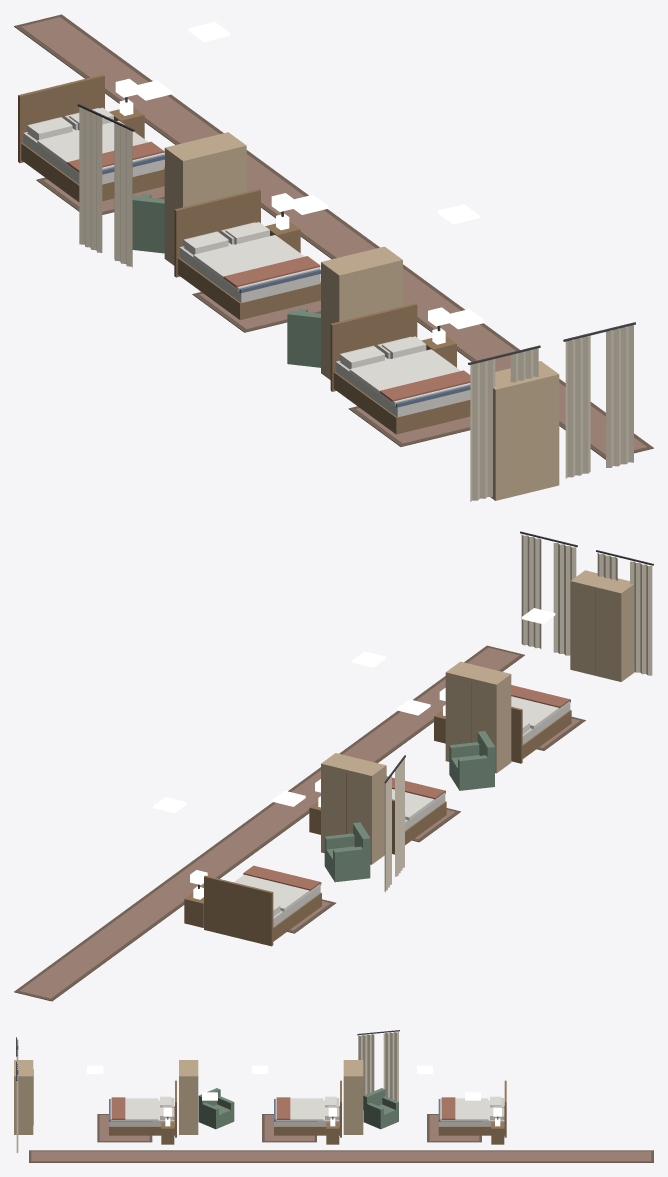
Rendered from fine-s3.glb.
3 renders of one model, top to bottom at view 1: azimuth 30°, elevation 25°; view 2: azimuth 150°, elevation 25°; view 3: azimuth 270°, elevation 25°, orthographic. The views are drawn at different scales.
Parts seen in each view (by area): view 1: soft-s3, dresser.008, bed-frame.007, bed-frame.008, bed-frame.006, dresser.006, dresser.007, lounge-chair.005, lounge-chair.004, nightstand.006, nightstand.007, nightstand.008; view 2: soft-s3, dresser.008, dresser.007, dresser.006, bed-frame.006, lounge-chair.004, lounge-chair.005, bed-frame.008, bed-frame.007, nightstand.006; view 3: soft-s3, dresser.006, dresser.007, dresser.008, lounge-chair.004, bed-frame.006, bed-frame.007, bed-frame.008, lounge-chair.005, nightstand.006, nightstand.007, nightstand.008.
Boxes of the visible parts, bbox=[...] form: soft-s3: bbox=[14, 14, 653, 501]; dresser.008: bbox=[490, 361, 559, 500]; bed-frame.007: bbox=[174, 189, 320, 319]; bed-frame.008: bbox=[330, 303, 470, 434]; bed-frame.006: bbox=[18, 74, 164, 201]; dresser.006: bbox=[164, 132, 246, 265]; dresser.007: bbox=[321, 246, 402, 379]; lounge-chair.005: bbox=[287, 308, 320, 367]; lounge-chair.004: bbox=[132, 193, 164, 253]; nightstand.006: bbox=[109, 99, 144, 138]; nightstand.007: bbox=[265, 213, 300, 252]; nightstand.008: bbox=[421, 328, 456, 367]; soft-s3: bbox=[14, 531, 653, 1001]; dresser.008: bbox=[570, 570, 634, 681]; dresser.007: bbox=[445, 661, 511, 773]; dresser.006: bbox=[321, 753, 386, 864]; bed-frame.006: bbox=[204, 875, 321, 946]; lounge-chair.004: bbox=[324, 822, 370, 882]; lounge-chair.005: bbox=[449, 731, 495, 790]; bed-frame.008: bbox=[511, 699, 571, 763]; bed-frame.007: bbox=[392, 790, 446, 854]; nightstand.006: bbox=[184, 886, 203, 927]; soft-s3: bbox=[16, 1030, 653, 1162]; dresser.006: bbox=[343, 1060, 363, 1134]; dresser.007: bbox=[179, 1060, 198, 1134]; dresser.008: bbox=[14, 1060, 33, 1134]; lounge-chair.004: bbox=[363, 1088, 398, 1129]; bed-frame.006: bbox=[438, 1080, 506, 1137]; bed-frame.007: bbox=[274, 1080, 341, 1137]; bed-frame.008: bbox=[109, 1080, 176, 1137]; lounge-chair.005: bbox=[198, 1088, 234, 1129]; nightstand.006: bbox=[491, 1118, 504, 1144]; nightstand.007: bbox=[326, 1118, 339, 1144]; nightstand.008: bbox=[161, 1118, 174, 1144].
Bounding box in the file's own units: 4.24 × 2.56 × 19.78.
